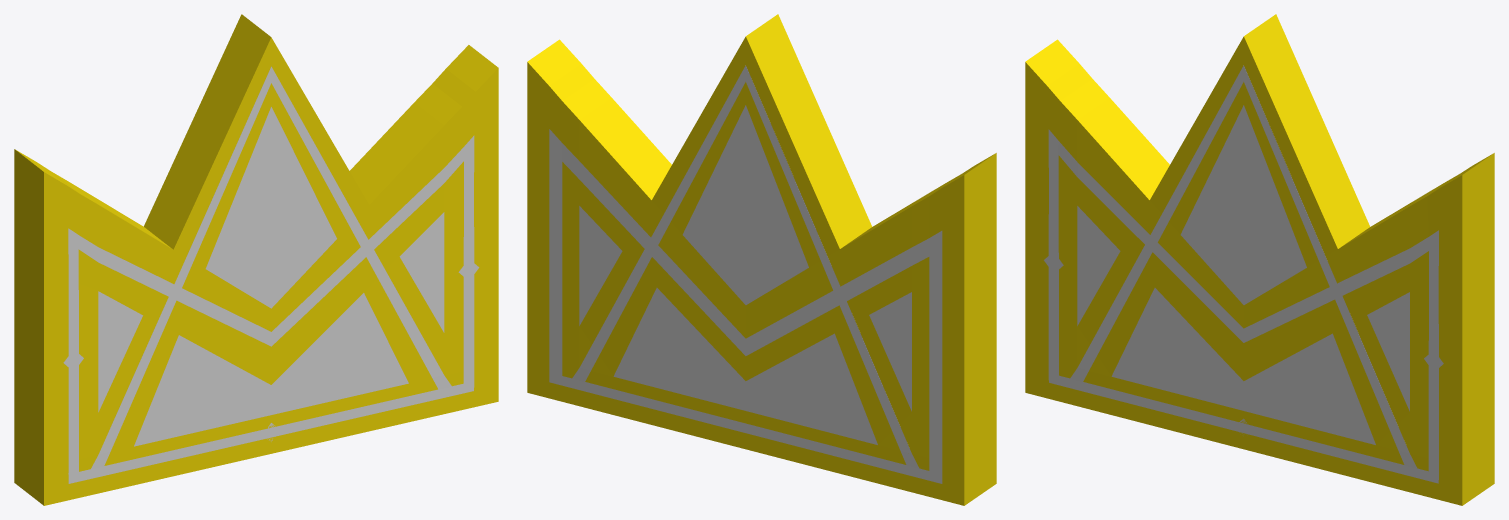
File: asset.glb
The picture shows the model from 3 angles, left to right: view 1: azimuth 30°, elevation 25°; view 2: azimuth 150°, elevation 25°; view 3: azimuth 330°, elevation 25°; orthographic projection.
Visible parts, largest first — view 1: Plane; view 2: Plane; view 3: Plane.
Part boxes in pixels (left/top/right/bottom): Plane: left=14, top=14, right=498, bottom=505; Plane: left=527, top=14, right=996, bottom=505; Plane: left=1025, top=14, right=1494, bottom=505.
Bounding box in the file's own units: 2.01 × 1.78 × 0.2941.
